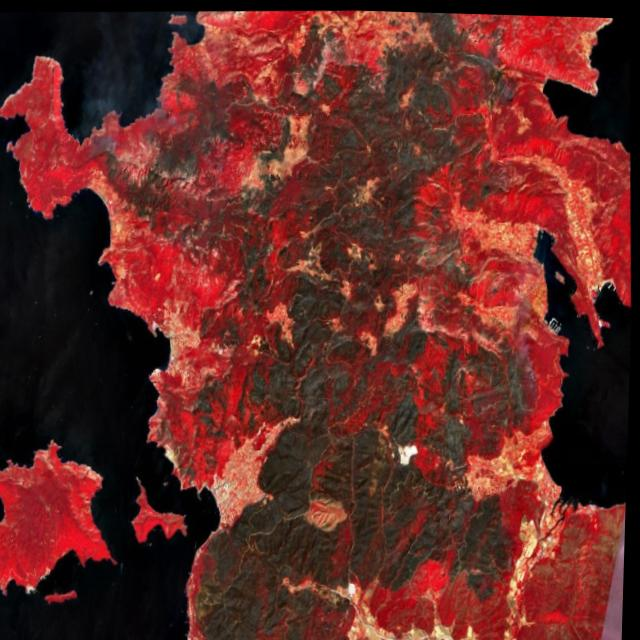fire: (503, 336, 543, 410), (74, 118, 132, 168)
